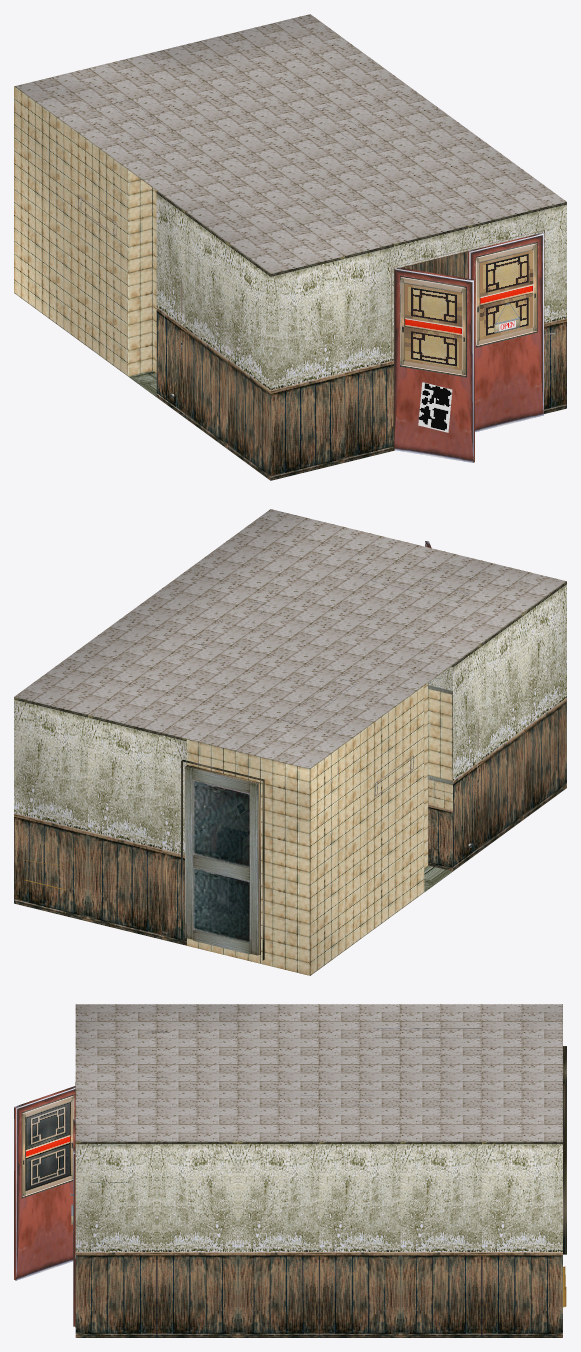
File: ramen-restaurant.glb
3 views of the same model, one above another, from view 1: azimuth 30°, elevation 25°; view 2: azimuth 150°, elevation 25°; view 3: azimuth 270°, elevation 25° (orthographic). The views are drawn at different scales.
Visible parts, largest first — view 1: ramen:mat_5f42306260cd95dd, ramen:mat_5f42306560c191d4, ramen:mat_745f4230638f99ca, ramen:mat_5f42306360c191d4, ramen:mat_5f42316292cd929b, ramen:mat_5f42316292ce94ce, ramen:mat_5f42316192c19fd5, ramen:mat_5f42316192ca92a9, ramen:mat_5f42306060d9a7ce, ramen:mat_5f42306060cd9edb; view 2: ramen:mat_5f42306260cd95dd, ramen:mat_745f4230638f99ca, ramen:mat_5f42306560c191d4, ramen:mat_5f42306360c191d4, ramen:mat_5f42336292d1a5cf, ramen:mat_5f42336192d1a5cf, ramen:mat_5f42306060d9a7ce; view 3: ramen:mat_5f42306260cd95dd, ramen:mat_5f42306560c191d4, ramen:mat_5f42306360c191d4, ramen:mat_5f42316292cd929b, ramen:mat_5f42316192c19fd5, ramen:mat_5f42306060d9a7ce.
Part boxes in pixels (x1=…): ramen:mat_5f42306260cd95dd: x1=14, y1=14, x2=566, y2=273; ramen:mat_5f42306560c191d4: x1=156, y1=191, x2=566, y2=390; ramen:mat_745f4230638f99ca: x1=14, y1=86, x2=168, y2=376; ramen:mat_5f42306360c191d4: x1=156, y1=251, x2=566, y2=480; ramen:mat_5f42316292cd929b: x1=394, y1=233, x2=543, y2=462; ramen:mat_5f42316292ce94ce: x1=404, y1=250, x2=533, y2=370; ramen:mat_5f42316192c19fd5: x1=400, y1=242, x2=537, y2=377; ramen:mat_5f42316192ca92a9: x1=418, y1=382, x2=452, y2=432; ramen:mat_5f42306060d9a7ce: x1=78, y1=99, x2=392, y2=236; ramen:mat_5f42306060cd9edb: x1=152, y1=230, x2=544, y2=450; ramen:mat_5f42306260cd95dd: x1=14, y1=509, x2=566, y2=768; ramen:mat_745f4230638f99ca: x1=187, y1=658, x2=452, y2=975; ramen:mat_5f42306560c191d4: x1=14, y1=581, x2=566, y2=854; ramen:mat_5f42306360c191d4: x1=14, y1=698, x2=566, y2=960; ramen:mat_5f42336292d1a5cf: x1=193, y1=779, x2=249, y2=943; ramen:mat_5f42336192d1a5cf: x1=185, y1=685, x2=452, y2=955; ramen:mat_5f42306060d9a7ce: x1=193, y1=569, x2=469, y2=796; ramen:mat_5f42306260cd95dd: x1=75, y1=1004, x2=562, y2=1141; ramen:mat_5f42306560c191d4: x1=75, y1=1141, x2=562, y2=1251; ramen:mat_5f42306360c191d4: x1=75, y1=1046, x2=566, y2=1337; ramen:mat_5f42316292cd929b: x1=14, y1=1086, x2=75, y2=1326; ramen:mat_5f42316192c19fd5: x1=21, y1=1094, x2=74, y2=1198; ramen:mat_5f42306060d9a7ce: x1=146, y1=1028, x2=481, y2=1104.
Size of the model in its own units: 4.71 by 3.11 by 7.92.
Materials: 56 (56 with a texture image).
